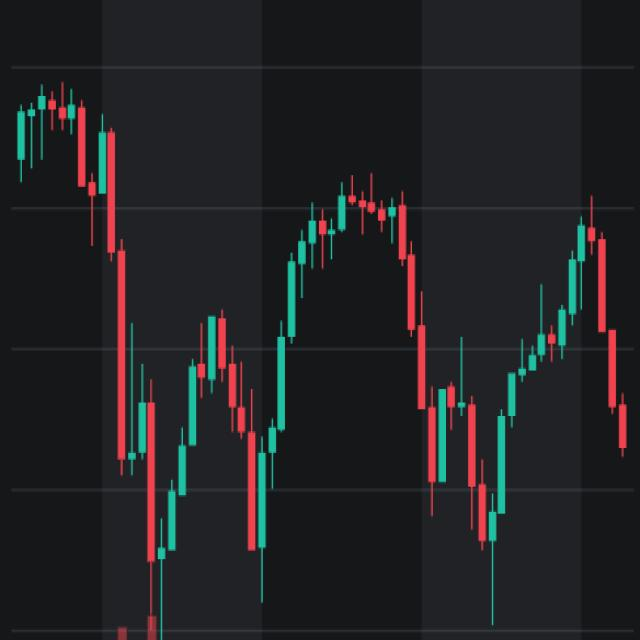Resistance-Emerging: (152, 191, 634, 569)
